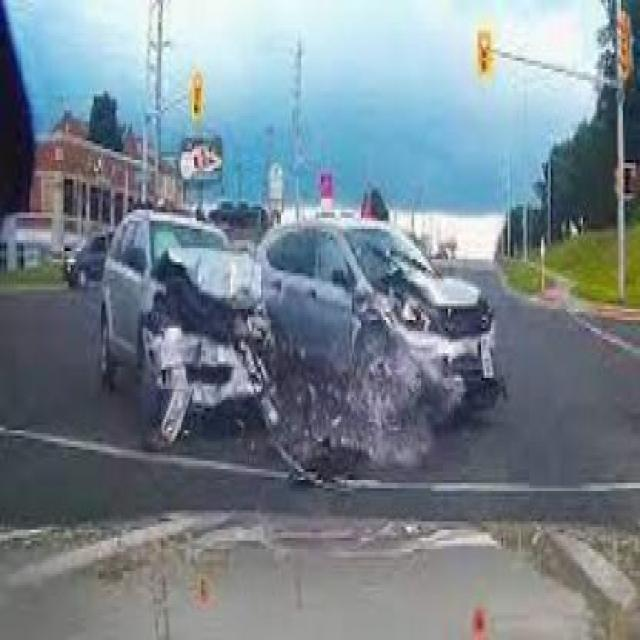accident: (103, 193, 495, 439)
